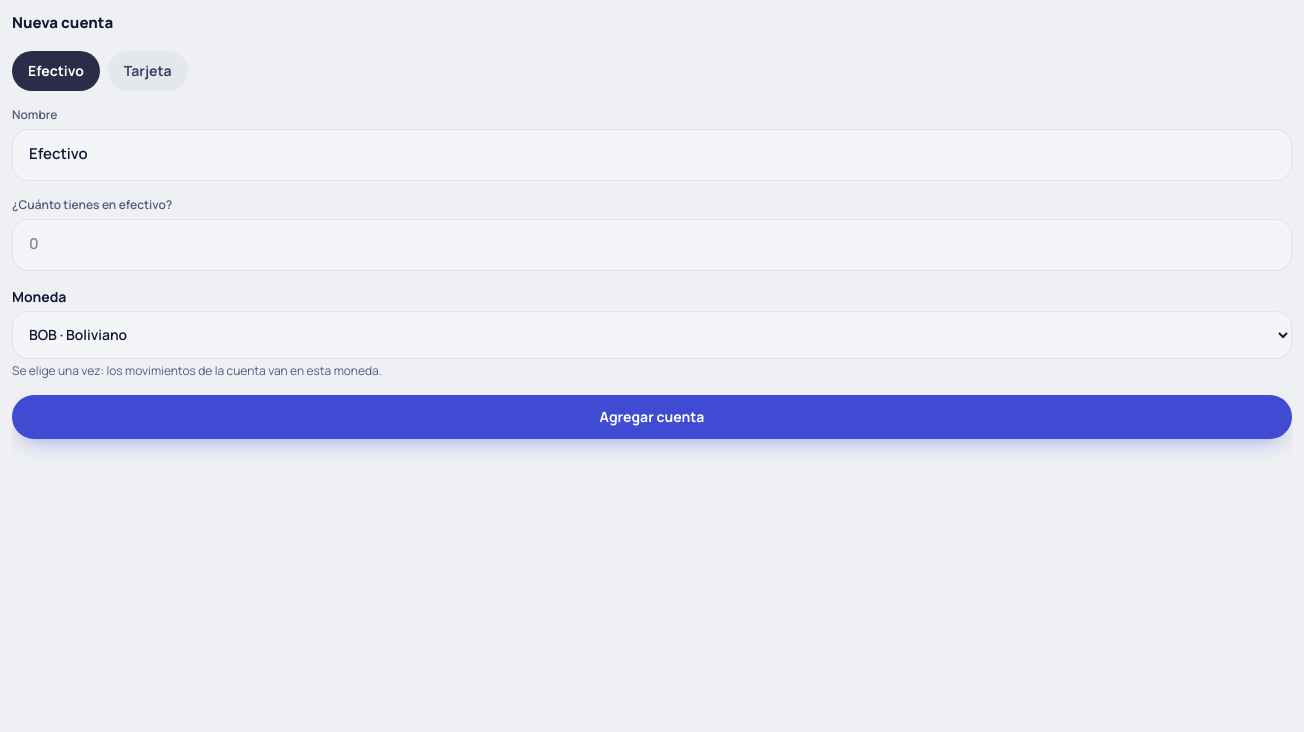
Test case: NewAccountForm › RF-2 starts in the main currency and the name follows the type
This screenshot has width=1304, height=732.
Check: the dropdown labelled "Moneda" shows "BOB · Boliviano", box [12, 310, 1292, 358]
Check: the field labelled "Nombre" holds "Efectivo", box [29, 143, 1275, 166]
Click the radio button labelled "Tarjeta": (148, 70) [108, 50, 188, 90]
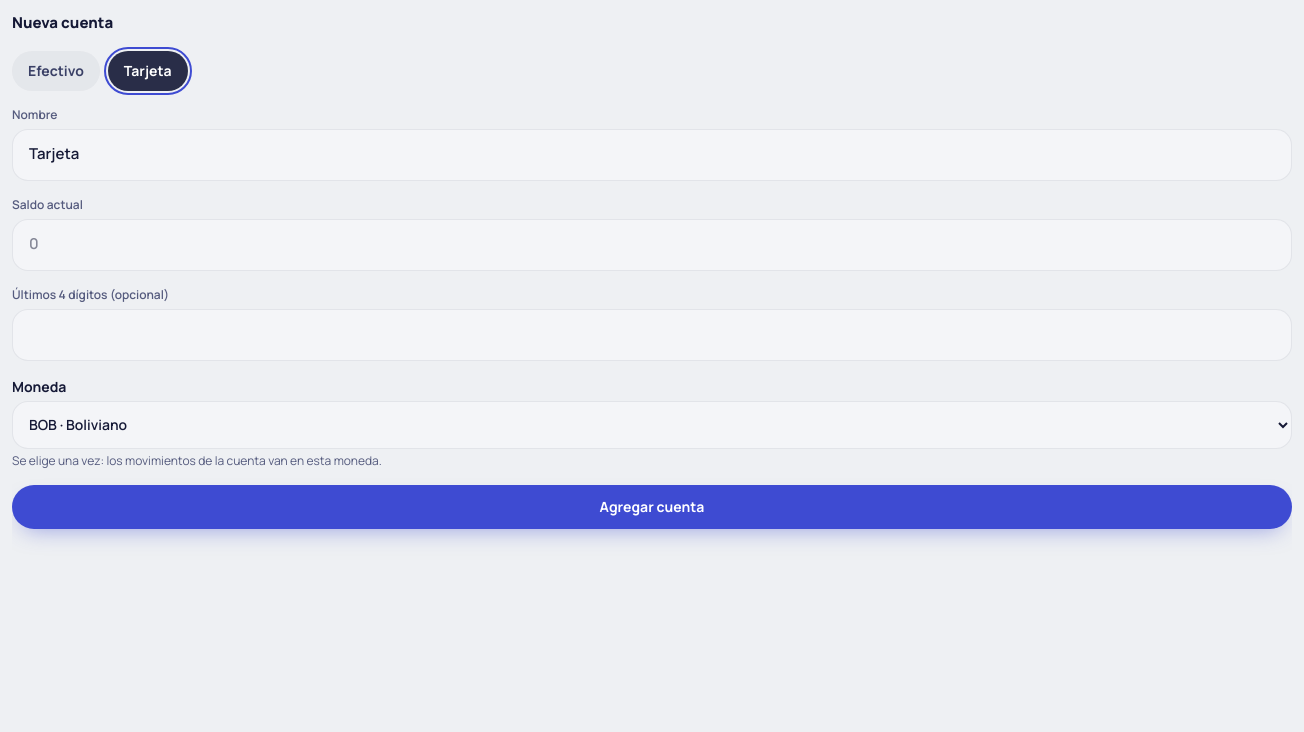
Check: the field labelled "Saldo actual" is shown, box [29, 233, 1275, 256]
Check: the field labelled "Nombre" holds "Tarjeta", box [29, 143, 1275, 166]
